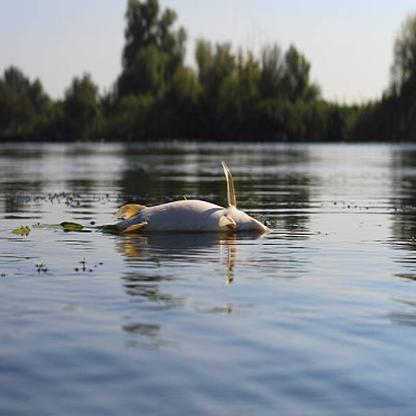deceased fish: (99, 157, 278, 240)
